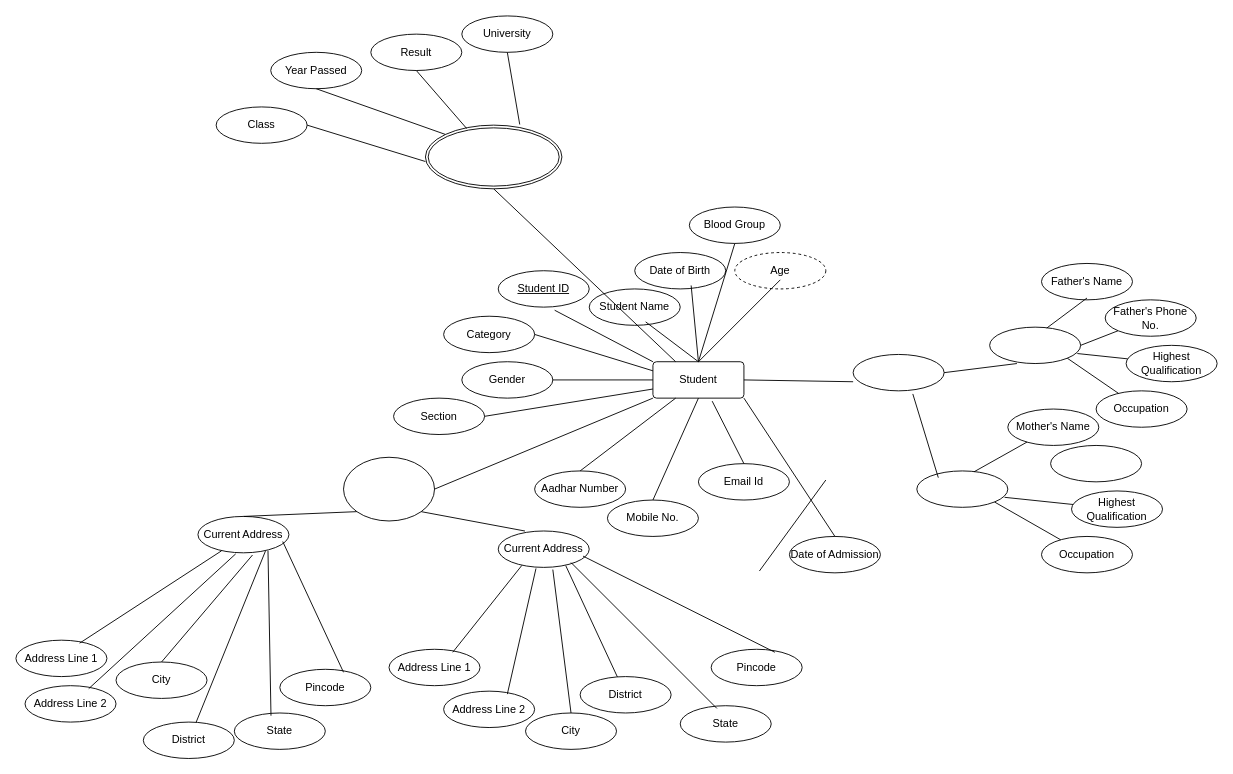
The diagram is 1233 pixels wide and 774 high, and some of its shapes have lost their labels. Each missing label, with the centre of its shape:
"Academic Inforrmation" belongs at pixel 493 156.
"Address" belongs at pixel 389 488.
"Father's Details" belongs at pixel 1035 345.
"Gaurdian Details" belongs at pixel 898 372.
"Mother's Details" belongs at pixel 962 488.
"Mother's Phone No." belongs at pixel 1096 463.
